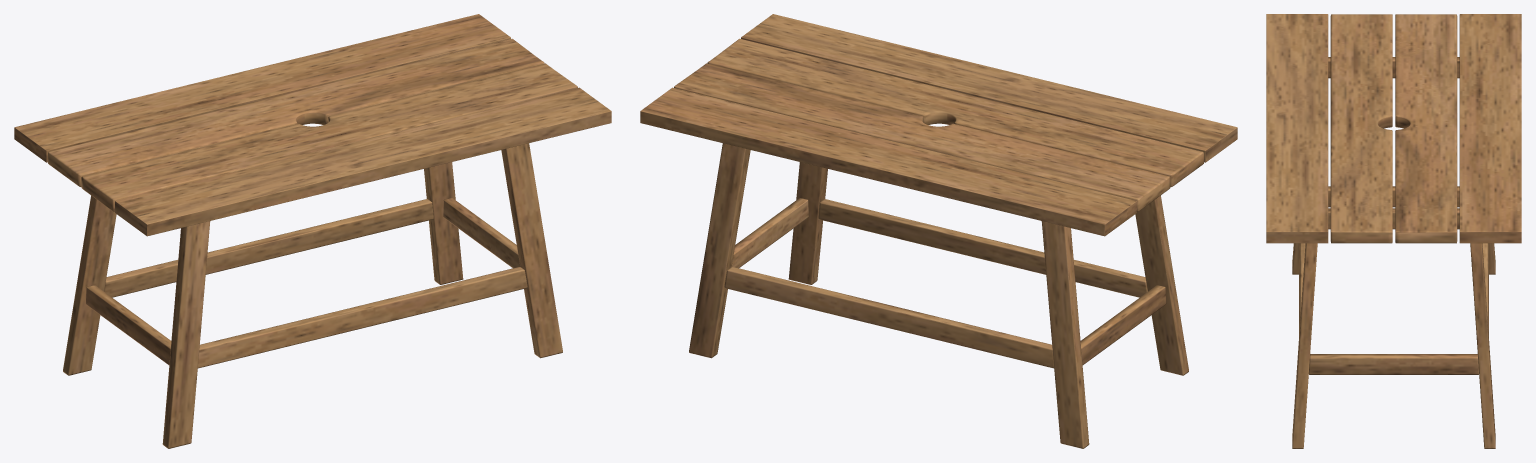
The model's file is Table3.fbx.
3 renders of one model, left to right at view 1: azimuth 30°, elevation 25°; view 2: azimuth 150°, elevation 25°; view 3: azimuth 270°, elevation 25°, orthographic. The views are drawn at different scales.
Parts seen in each view (by area): view 1: Table Outdoor 51-20_3, Table Outdoor 51-20, Table Outdoor 51-20_4, Table Outdoor 51-20_2, Table Outdoor 51-20_10, Table Outdoor 51-20_11, Table Outdoor 51-20_16, Table Outdoor 51-20_13, Table Outdoor 51-20_15, Table Outdoor 51-20_14, Table Outdoor 51-20_12, Table Outdoor 51-20_9; view 2: Table Outdoor 51-20, Table Outdoor 51-20_3, Table Outdoor 51-20_2, Table Outdoor 51-20_4, Table Outdoor 51-20_11, Table Outdoor 51-20_10, Table Outdoor 51-20_15, Table Outdoor 51-20_14, Table Outdoor 51-20_16, Table Outdoor 51-20_13, Table Outdoor 51-20_12, Table Outdoor 51-20_9; view 3: Table Outdoor 51-20, Table Outdoor 51-20_3, Table Outdoor 51-20_2, Table Outdoor 51-20_4, Table Outdoor 51-20_9, Table Outdoor 51-20_14, Table Outdoor 51-20_13, Table Outdoor 51-20_10, Table Outdoor 51-20_11.
Boxes of the visible parts, box(x1,y1,x2,y2) form: Table Outdoor 51-20_3: box(115, 87, 611, 236); Table Outdoor 51-20: box(14, 14, 510, 162); Table Outdoor 51-20_4: box(48, 38, 544, 186); Table Outdoor 51-20_2: box(81, 63, 577, 211); Table Outdoor 51-20_10: box(197, 267, 527, 368); Table Outdoor 51-20_11: box(104, 199, 433, 297); Table Outdoor 51-20_16: box(162, 221, 210, 448); Table Outdoor 51-20_13: box(501, 143, 562, 358); Table Outdoor 51-20_15: box(63, 195, 116, 375); Table Outdoor 51-20_14: box(424, 162, 463, 284); Table Outdoor 51-20_12: box(85, 285, 171, 364); Table Outdoor 51-20_9: box(443, 198, 520, 268); Table Outdoor 51-20: box(640, 87, 1136, 236); Table Outdoor 51-20_3: box(741, 14, 1237, 162); Table Outdoor 51-20_2: box(707, 38, 1203, 186); Table Outdoor 51-20_4: box(674, 63, 1170, 211); Table Outdoor 51-20_11: box(724, 267, 1054, 368); Table Outdoor 51-20_10: box(818, 199, 1147, 297); Table Outdoor 51-20_15: box(1041, 221, 1089, 448); Table Outdoor 51-20_14: box(689, 143, 750, 358); Table Outdoor 51-20_16: box(1135, 195, 1188, 375); Table Outdoor 51-20_13: box(788, 162, 827, 284); Table Outdoor 51-20_12: box(1080, 285, 1166, 364); Table Outdoor 51-20_9: box(731, 198, 808, 268); Table Outdoor 51-20: box(1459, 14, 1521, 243); Table Outdoor 51-20_3: box(1266, 14, 1328, 243); Table Outdoor 51-20_2: box(1330, 14, 1392, 243); Table Outdoor 51-20_4: box(1395, 14, 1457, 243); Table Outdoor 51-20_9: box(1309, 354, 1478, 374); Table Outdoor 51-20_14: box(1470, 243, 1495, 448); Table Outdoor 51-20_13: box(1292, 243, 1317, 448); Table Outdoor 51-20_10: box(1299, 243, 1305, 335); Table Outdoor 51-20_11: box(1482, 243, 1488, 335).
Bounding box in the file's own units: 160 × 80 × 79.2.
